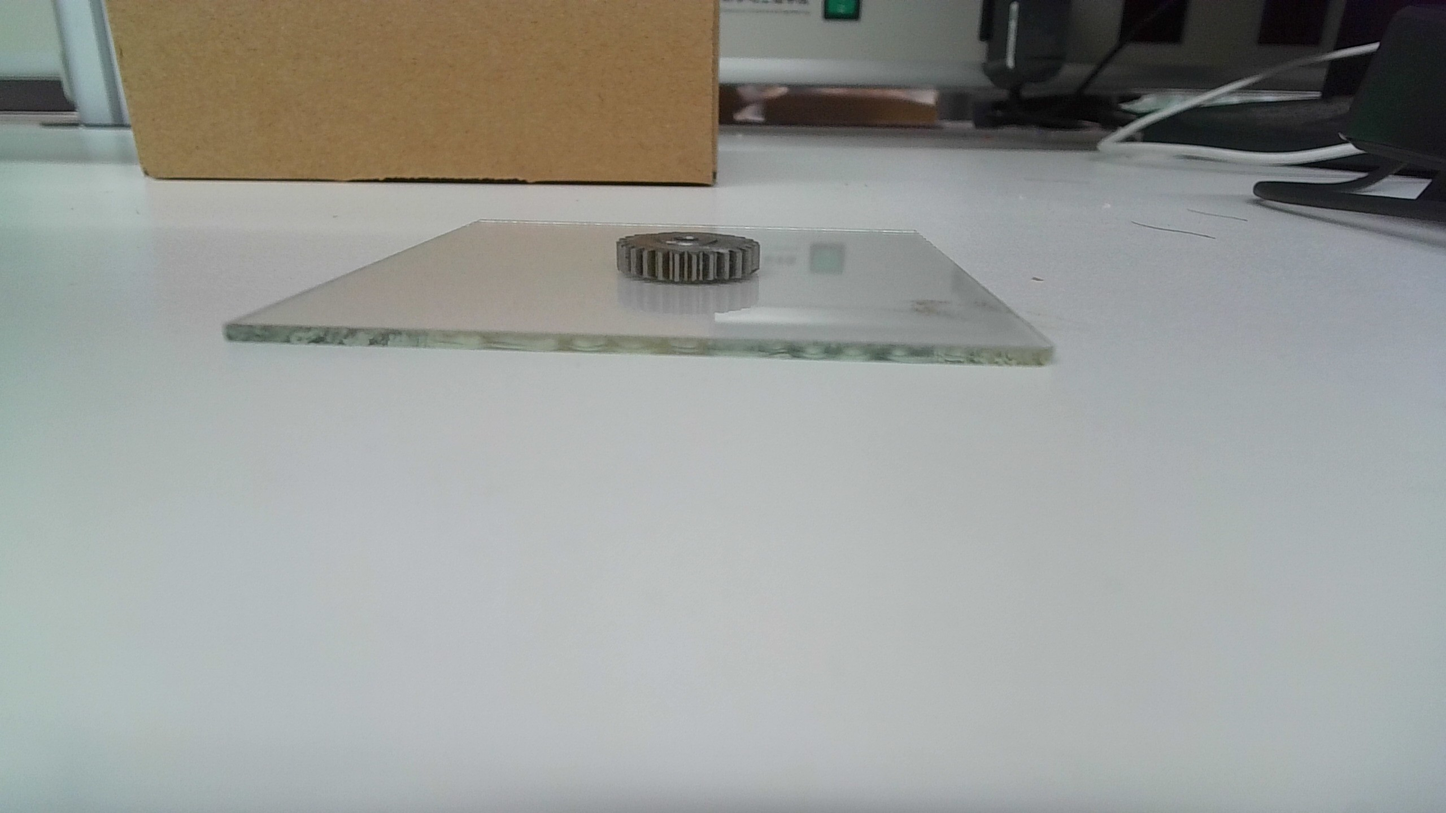gear: (616, 228, 764, 285)
